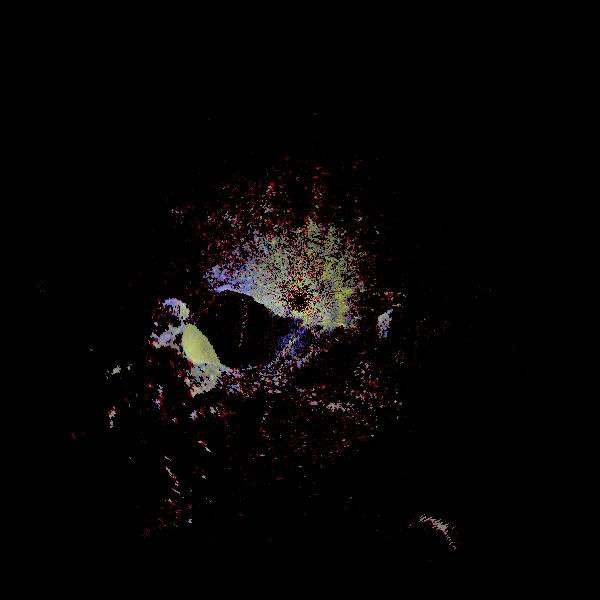roost: (104, 296, 245, 437)
